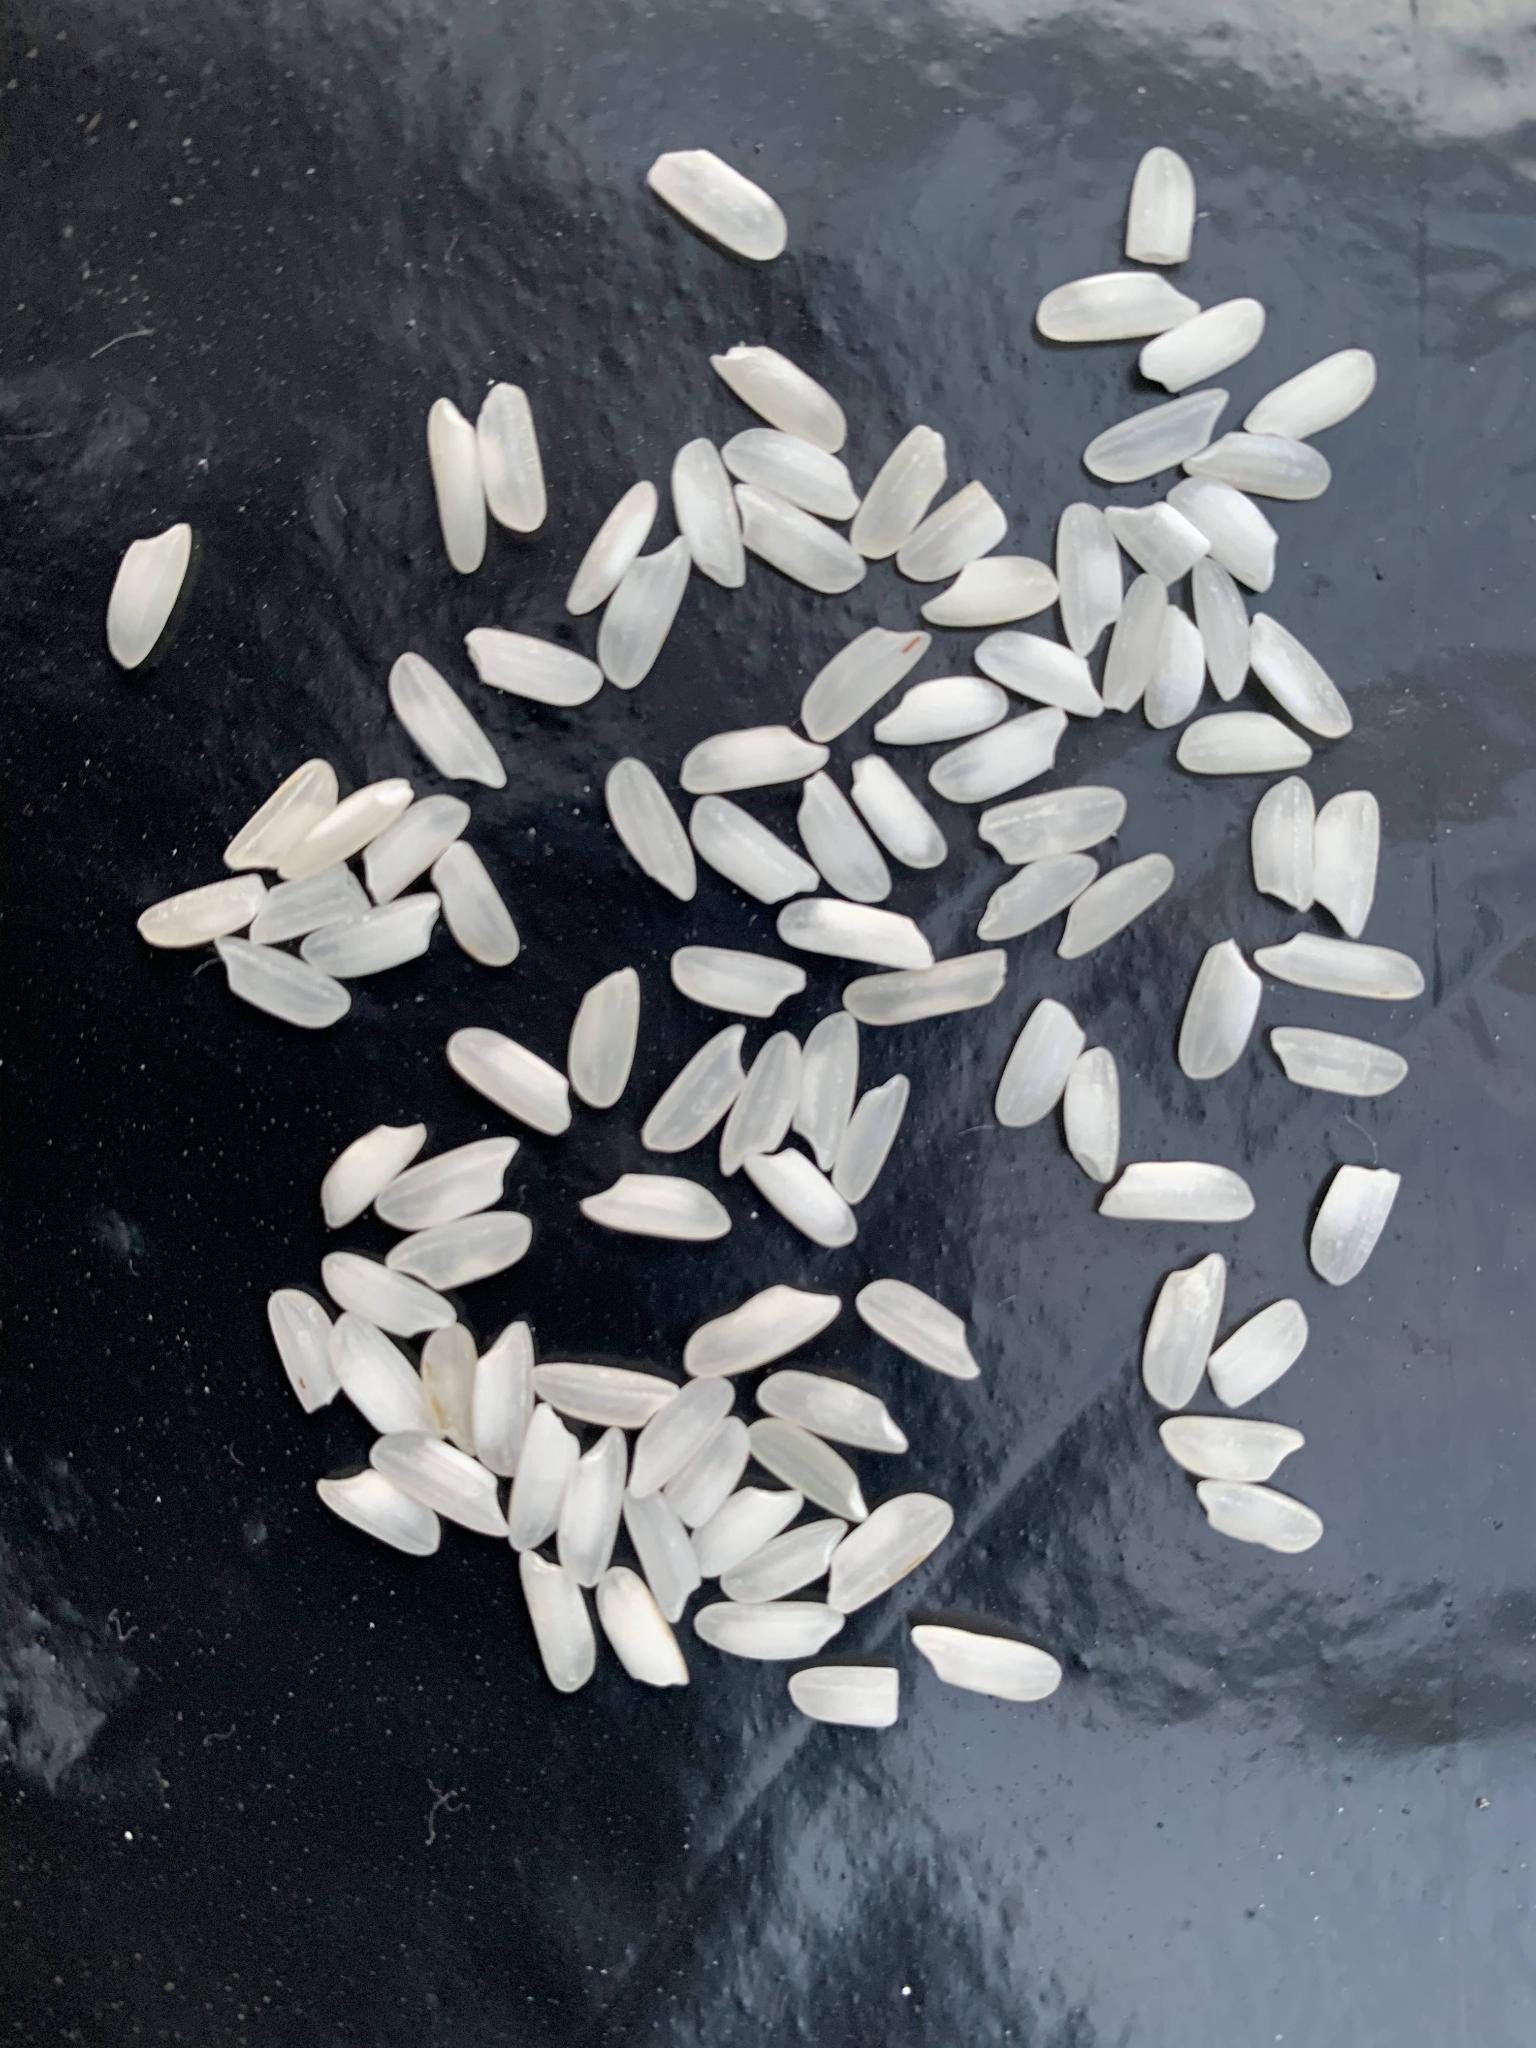rice: (645, 148, 787, 261), (390, 651, 507, 789), (824, 1493, 954, 1613), (710, 347, 847, 456), (800, 627, 929, 743), (733, 484, 866, 595), (595, 535, 691, 692), (331, 1313, 445, 1440), (371, 1434, 511, 1537), (682, 1285, 842, 1374), (691, 795, 820, 905), (445, 1026, 573, 1135), (1083, 389, 1229, 484), (373, 1135, 520, 1230), (641, 1024, 749, 1153), (278, 779, 415, 880), (928, 706, 1068, 805), (628, 1376, 736, 1501), (1142, 1251, 1228, 1409), (1249, 613, 1355, 739), (605, 756, 697, 900), (850, 426, 949, 560), (854, 1279, 983, 1380), (1167, 476, 1278, 593), (844, 948, 1008, 1027), (797, 771, 894, 905), (721, 427, 862, 519), (213, 935, 352, 1027), (224, 758, 337, 871), (749, 1417, 870, 1522), (757, 1371, 910, 1453), (108, 522, 194, 669), (1057, 853, 1175, 959), (566, 481, 658, 616), (1178, 937, 1263, 1082), (1034, 269, 1200, 343), (720, 1029, 803, 1176), (1242, 348, 1378, 439), (363, 793, 471, 906), (386, 1209, 536, 1290), (302, 893, 440, 980), (319, 1251, 458, 1338), (595, 1567, 694, 1690), (994, 997, 1086, 1127), (1141, 298, 1267, 393), (1255, 930, 1426, 1000), (978, 785, 1128, 864), (319, 1121, 429, 1229), (910, 1624, 1062, 1701), (431, 839, 521, 968), (849, 755, 949, 869), (742, 1148, 857, 1248), (557, 1429, 628, 1590), (973, 632, 1104, 719), (1310, 1166, 1404, 1287), (1207, 1298, 1309, 1409), (671, 439, 745, 589), (779, 898, 933, 971), (465, 627, 605, 706), (316, 1469, 440, 1558), (899, 481, 1007, 582), (718, 1517, 849, 1601), (520, 1550, 595, 1693), (829, 1072, 912, 1205), (976, 853, 1100, 940), (507, 1401, 578, 1553), (626, 1485, 703, 1622), (792, 1011, 858, 1171), (1183, 432, 1334, 502), (579, 1172, 731, 1242), (568, 966, 641, 1109), (428, 397, 486, 574), (679, 726, 831, 793), (692, 1488, 803, 1580), (920, 555, 1060, 627), (532, 1359, 678, 1429), (481, 384, 549, 532), (1313, 789, 1379, 940), (252, 861, 373, 943), (1158, 1416, 1305, 1484), (137, 872, 268, 948), (1270, 1026, 1409, 1097), (671, 945, 807, 1018), (1058, 502, 1121, 655), (268, 1287, 344, 1413), (665, 1417, 749, 1530), (1196, 1479, 1323, 1553), (1099, 1161, 1255, 1221), (874, 676, 1012, 743), (1104, 503, 1212, 589), (691, 1601, 849, 1659), (1250, 776, 1317, 914), (1100, 574, 1167, 710), (1125, 145, 1196, 268), (478, 1319, 532, 1477), (1176, 713, 1312, 776), (1194, 555, 1250, 701), (1063, 1045, 1120, 1185), (423, 1322, 478, 1459), (789, 1664, 900, 1730), (1146, 606, 1205, 727)
